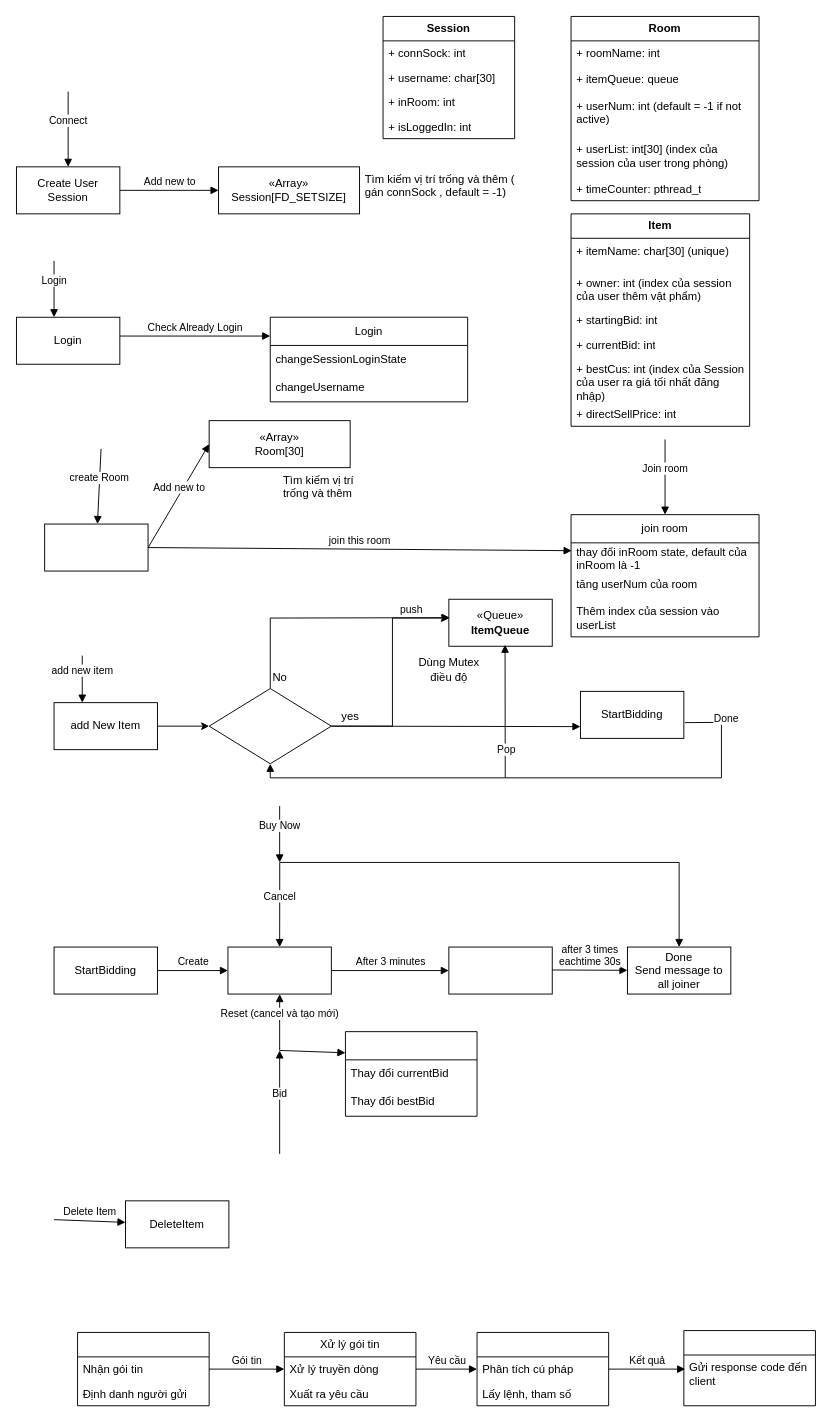
The diagram is 832 pixels wide and 1425 high, and some of its shapes have lost their labels. Each missing label, with the box of its shape:
Bidding: (345, 1031, 477, 1116)
BiddingAnnou: (448, 946, 552, 994)
Create new Room: (44, 523, 148, 571)
Gửi phản hồi: (683, 1330, 815, 1406)
isQueueNull: (208, 688, 331, 764)
Nhận tin: (77, 1332, 209, 1406)
Xử lý yêu cầu: (476, 1332, 609, 1406)
«Thread» TimeCounter: (227, 946, 331, 994)
